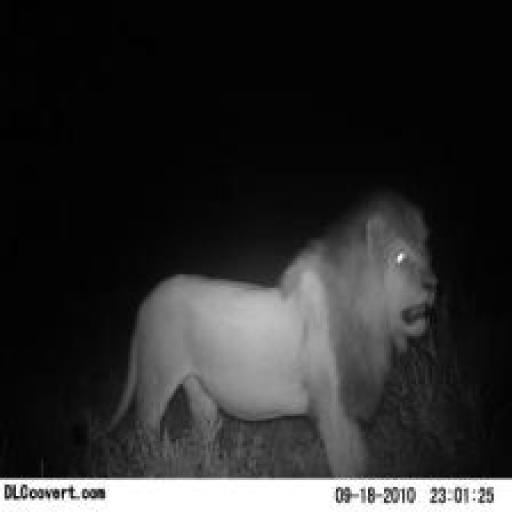lion: (119, 196, 471, 479)
